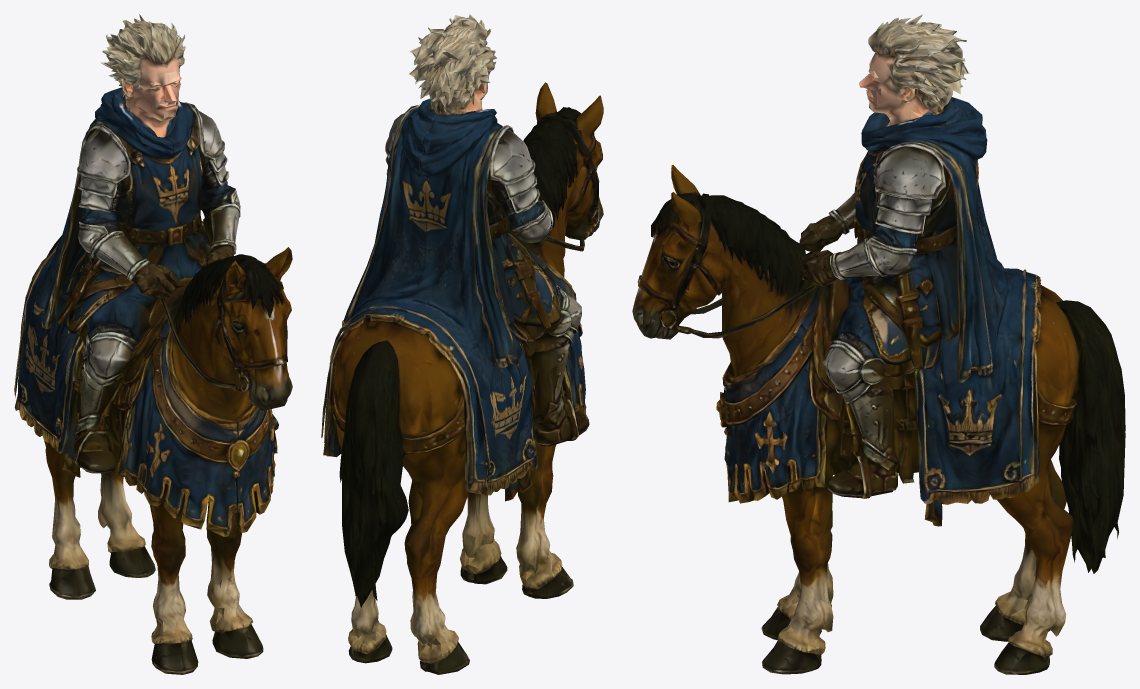
Rendered from LeeRider_static.glb.
The picture shows the model from 3 angles, left to right: view 1: azimuth 30°, elevation 25°; view 2: azimuth 150°, elevation 25°; view 3: azimuth 270°, elevation 25°; orthographic projection. The views are drawn at different scales.
Parts seen in each view (by area): view 1: model; view 2: model; view 3: model.
Part boxes in pixels (x1,y1,x2,y2): model: (14,14,292,674); model: (321,14,603,674); model: (632,14,1125,674).
Size of the model in its own units: 0.6413 by 1.89 by 1.34.
1 material, 1 textured.
